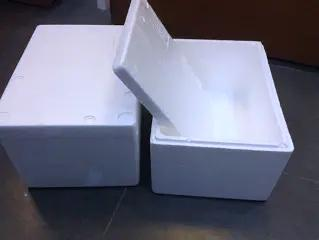ROAD_OBSTACLE: (112, 0, 294, 202), (0, 25, 142, 188)
